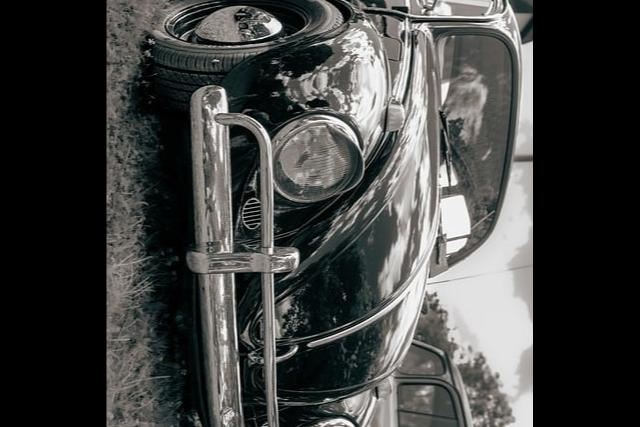Non_Gorille: (108, 0, 528, 427)
